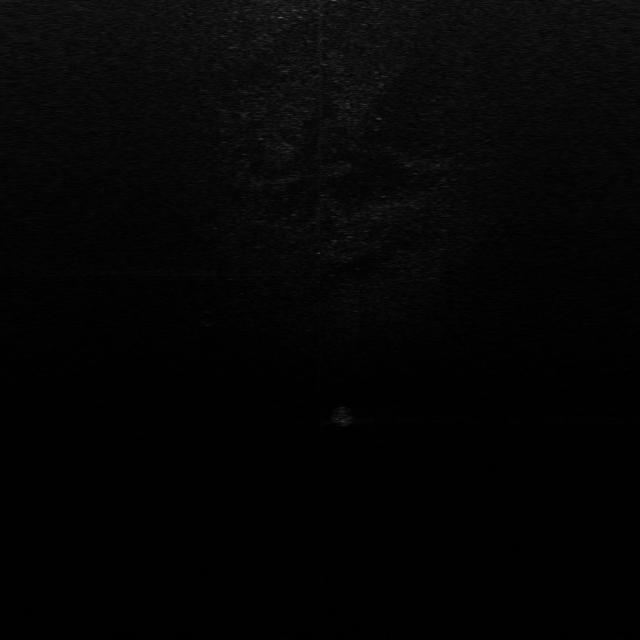ball: (326, 404, 362, 426)
circle cage: (194, 306, 224, 329)
